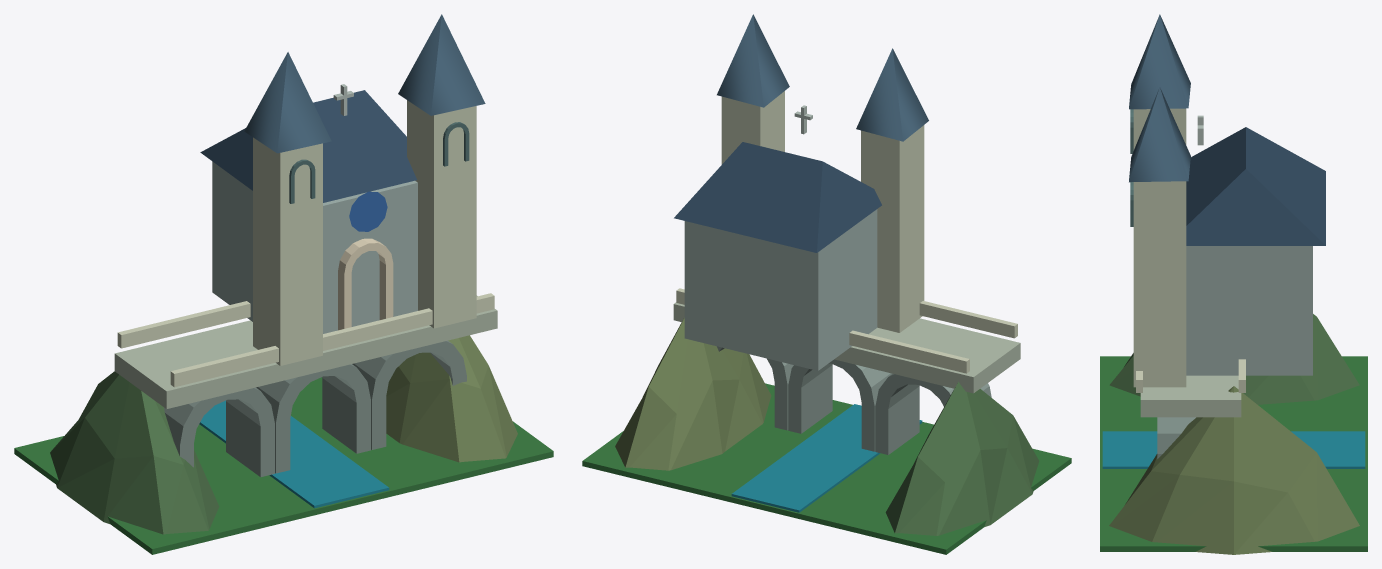
The model's file is las-lajas-sanctuary.glb.
3 views of the same model, side by side, from view 1: azimuth 30°, elevation 25°; view 2: azimuth 150°, elevation 25°; view 3: azimuth 270°, elevation 25° (orthographic). The views are drawn at different scales.
Parts seen in each view (by area): view 1: towers_C6C8B7, base_7B8770, base, bridge_A6AA9A, body_B6BCAD, bridge_BBBCAA, base_8A8D74, roof_616F66, roof, bridge_C3C7B6, river_608E96, body_DADACA (+2 smaller); view 2: body_B6BCAD, base, base_7B8770, base_8A8D74, roof_616F66, towers_C6C8B7, bridge_A6AA9A, roof, river_608E96, bridge_BBBCAA, bridge_C3C7B6; view 3: base_8A8D74, body_B6BCAD, roof_616F66, base, towers_C6C8B7, roof, base_7B8770, river_608E96, bridge_BBBCAA, bridge_A6AA9A, bridge_C3C7B6, towers_8A9285.
Part boxes in pixels (x1,y1,x2,y2): towers_C6C8B7: (253,100,476,365); base_7B8770: (50,371,219,534); base: (14,377,553,554); bridge_A6AA9A: (164,340,466,477); body_B6BCAD: (212,161,417,333); bridge_BBBCAA: (114,295,497,409); base_8A8D74: (386,335,517,462); roof_616F66: (200,90,416,202); roof: (244,14,485,153); bridge_C3C7B6: (117,293,494,387); river_608E96: (199,400,389,508); body_DADACA: (338,238,393,330); body_B6BCAD: (684,209,877,370); base: (582,383,1071,554); base_7B8770: (885,381,1039,535); base_8A8D74: (615,318,771,470); roof_616F66: (674,142,881,252); towers_C6C8B7: (721,91,924,332); bridge_A6AA9A: (717,346,991,454); roof: (717,14,928,141); river_608E96: (731,404,922,512); bridge_BBBCAA: (673,302,1020,393); bridge_C3C7B6: (676,288,1017,373); base_8A8D74: (1109,386,1359,554); body_B6BCAD: (1186,246,1312,375); roof_616F66: (1186,127,1325,245); base: (1100,356,1367,551); towers_C6C8B7: (1133,108,1186,387); roof: (1129,14,1190,182); base_7B8770: (1109,314,1359,404); river_608E96: (1102,431,1365,468); bridge_BBBCAA: (1140,375,1241,417); bridge_A6AA9A: (1157,417,1195,458); bridge_C3C7B6: (1136,359,1245,392); towers_8A9285: (1130,109,1133,226).
Bounding box in the file's own units: 1 × 1.02 × 0.5822.
